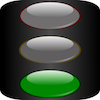green: (66, 53, 84, 77)
